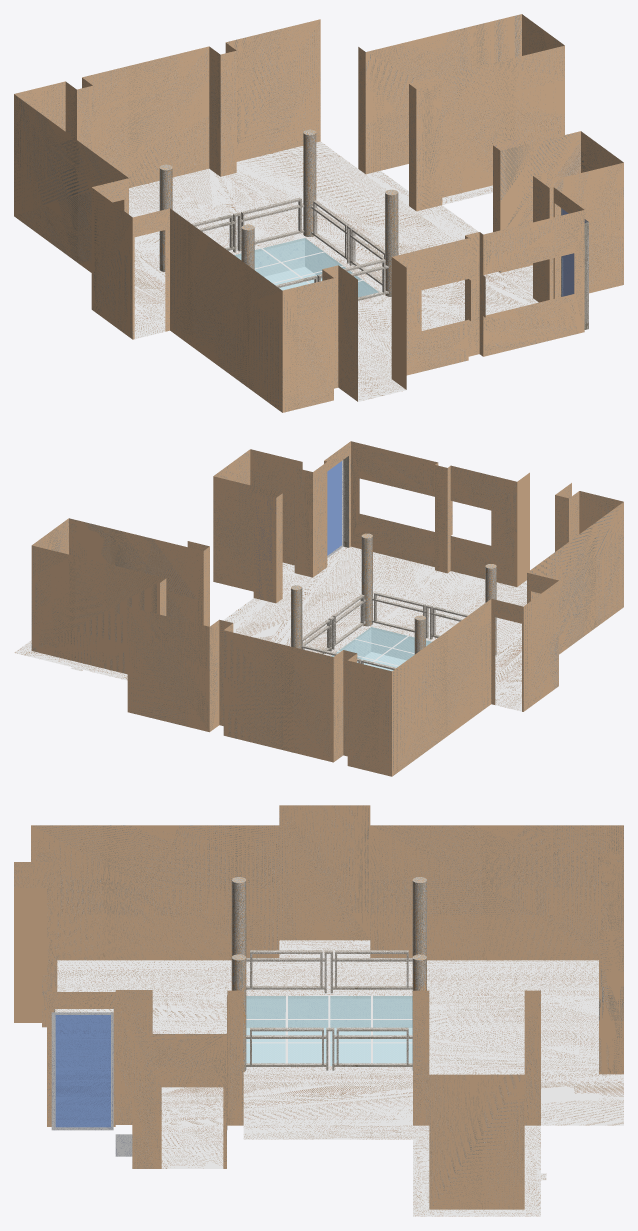
The model's file is COM020.obj.
3 views of the same model, one above another, from view 1: azimuth 30°, elevation 25°; view 2: azimuth 150°, elevation 25°; view 3: azimuth 270°, elevation 25° (orthographic). The views are drawn at different scales.
Parts seen in each view (by area): view 1: Mesh1 COM020 Model; view 2: Mesh1 COM020 Model; view 3: Mesh1 COM020 Model.
Part boxes in pixels (bbox=[...]): Mesh1 COM020 Model: bbox=[14, 14, 623, 412]; Mesh1 COM020 Model: bbox=[14, 441, 623, 776]; Mesh1 COM020 Model: bbox=[14, 805, 623, 1216].
Bounding box in the file's own units: 15.81 × 4.45 × 14.75.
9 materials, 3 textured.
